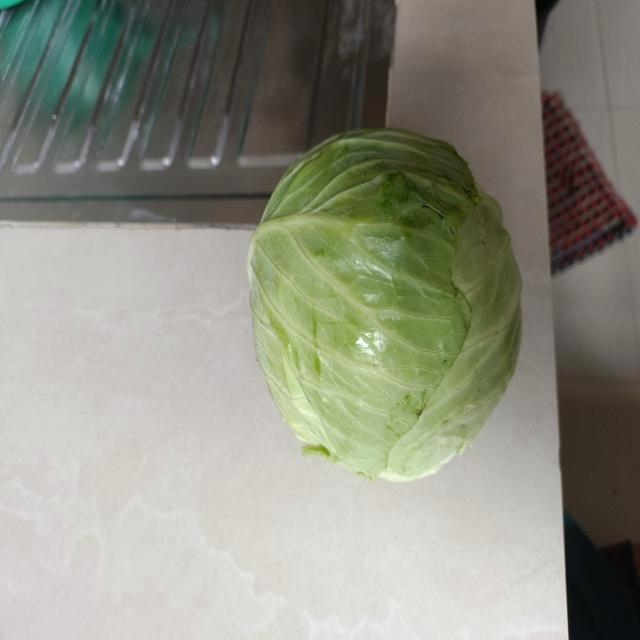cabbage: (242, 118, 524, 492)
